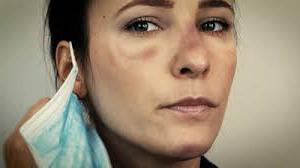without_mask: (116, 1, 235, 162)
